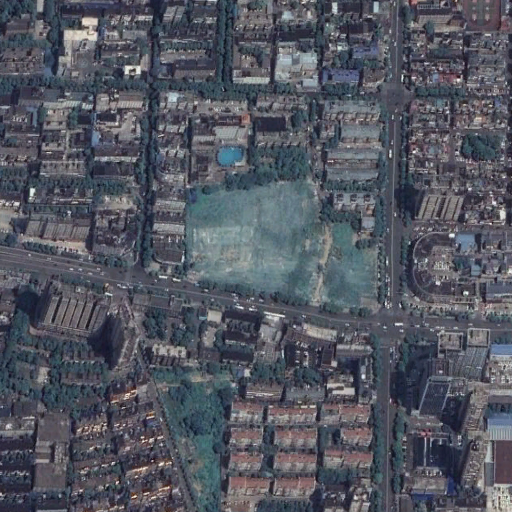cw: (188, 178, 378, 314)
